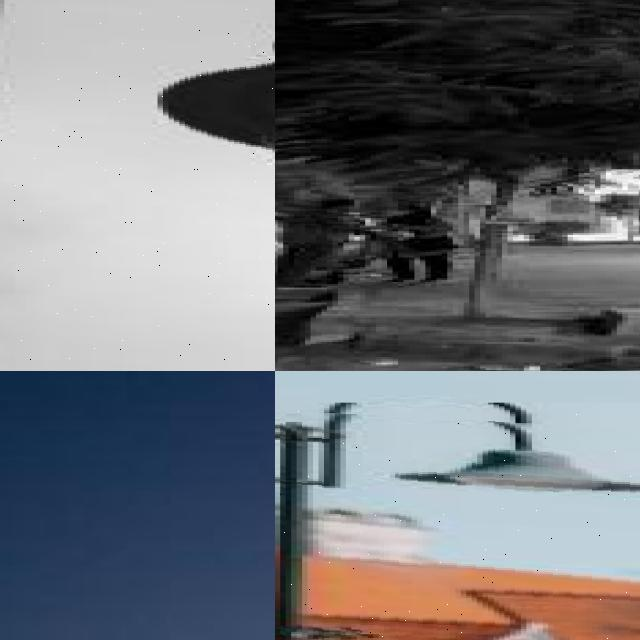street light: (0, 0, 275, 371), (275, 402, 640, 640)
